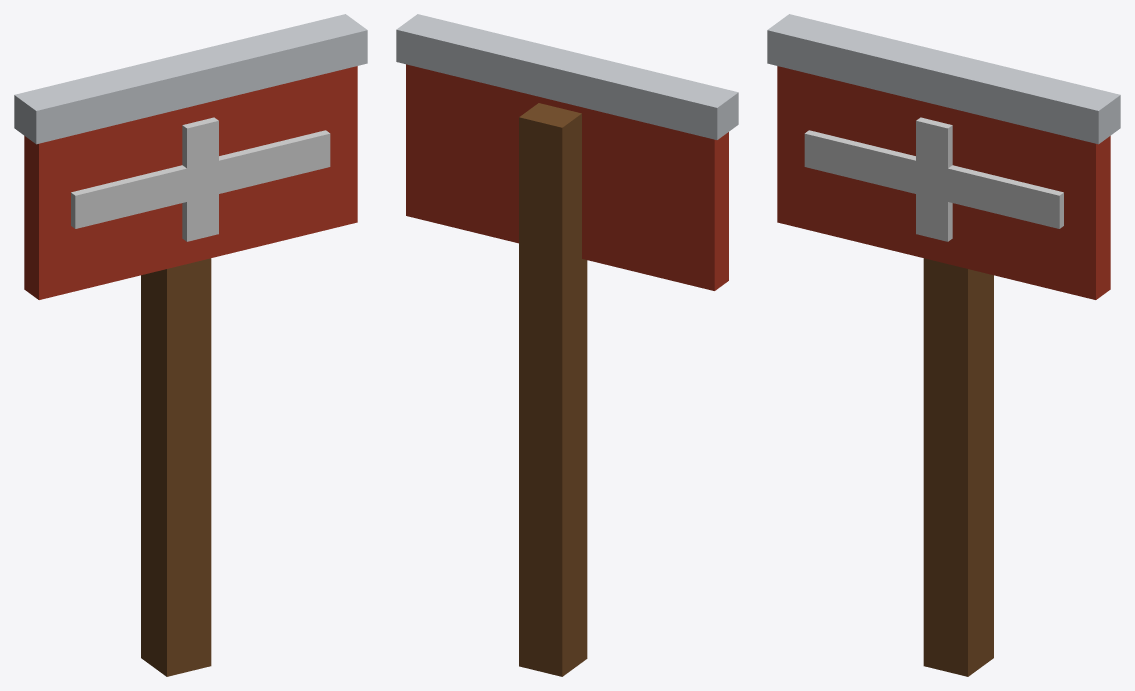
File: prop_sign.glb
3 renders of one model, left to right at view 1: azimuth 30°, elevation 25°; view 2: azimuth 150°, elevation 25°; view 3: azimuth 330°, elevation 25°, orthographic. The views are drawn at different scales.
Parts seen in each view (by area): view 1: sign; view 2: sign; view 3: sign.
Part boxes in pixels (x1,y1,x2,y2): sign: (14,14,367,676); sign: (396,14,738,676); sign: (767,14,1120,676).
Bounding box in the file's own units: 1.04 × 1.83 × 0.215.
